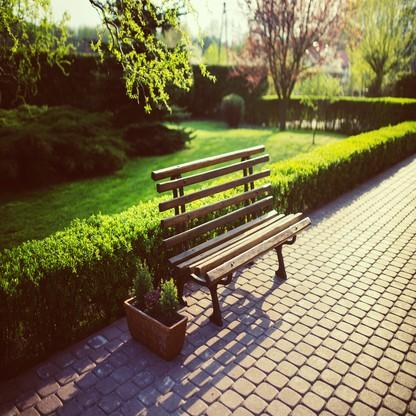obstacle: (143, 153, 318, 313)
